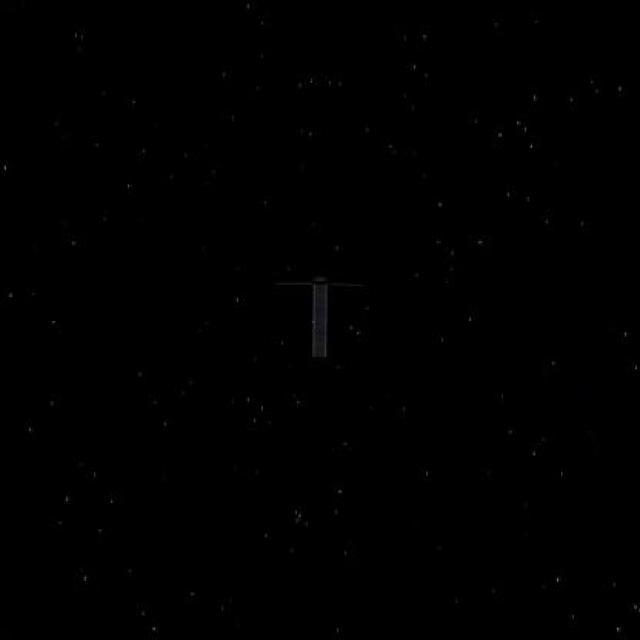medium_debris: (264, 264, 371, 362)
